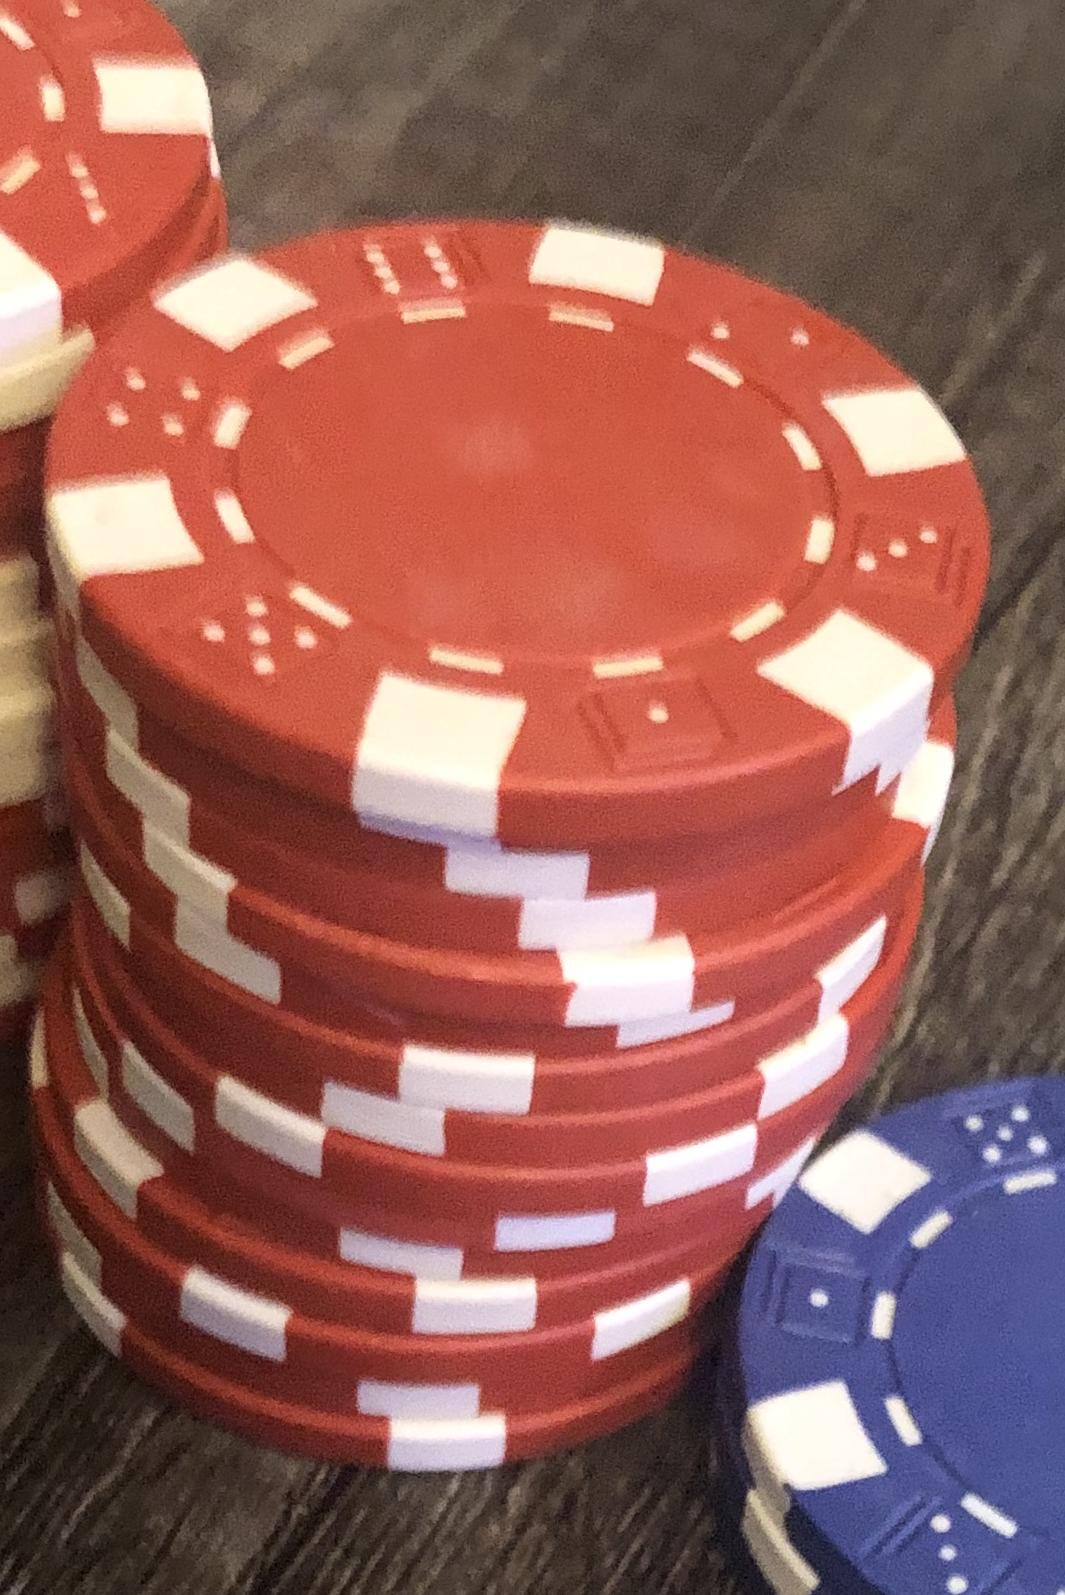Chip: (1, 1, 1065, 1595)
